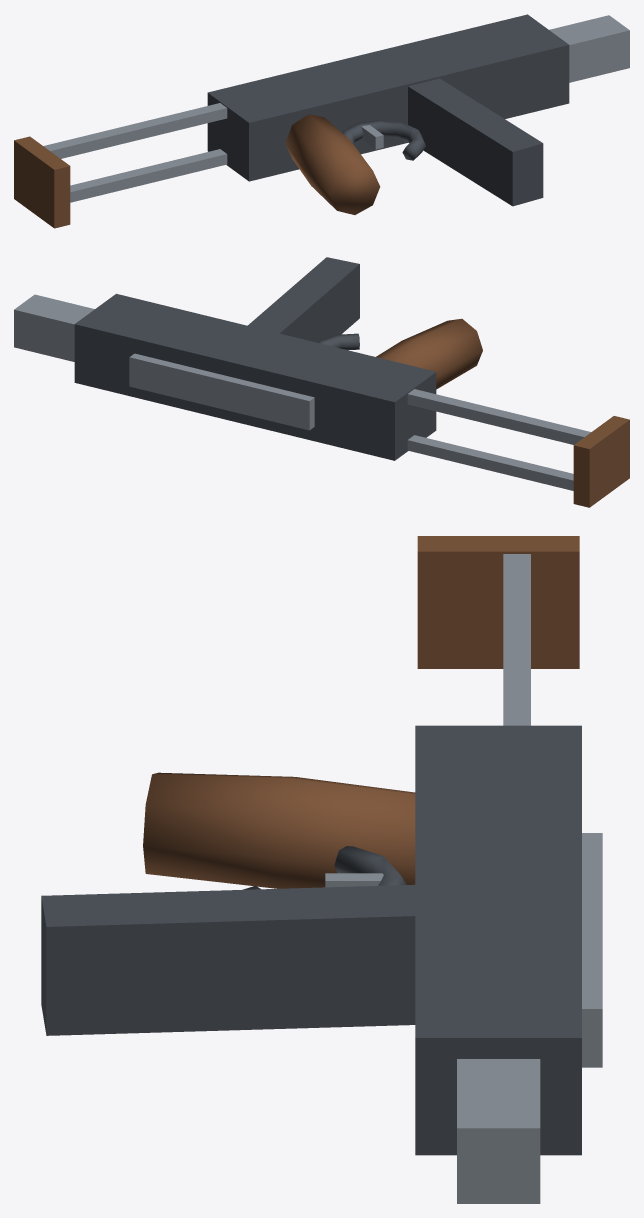
Rendered from weapon_smg.glb.
3 views of the same model, one above another, from view 1: azimuth 30°, elevation 25°; view 2: azimuth 150°, elevation 25°; view 3: azimuth 270°, elevation 25° (orthographic). The views are drawn at different scales.
Parts seen in each view (by area): view 1: receiver, mag, grip, pad, shroud, strut1, strut0, guard, trigger; view 2: receiver, rail, mag, pad, grip, shroud, strut1, strut0, guard; view 3: receiver, mag, grip, pad, shroud, rail, strut1, guard.
Part boxes in pixels (x1,y1,x2,y2): receiver: (207,14,569,181); mag: (408,78,543,206); grip: (285,114,380,214); pad: (14,136,70,228); shroud: (549,15,629,82); strut1: (43,103,227,158); strut0: (70,149,227,202); guard: (342,120,425,160); trigger: (361,125,383,149); receiver: (74,293,436,460); rail: (129,353,314,430); mag: (248,257,359,342); pad: (573,416,629,507); grip: (376,318,482,389); shroud: (14,294,94,361); strut1: (407,389,591,444); strut0: (407,435,573,490); guard: (317,333,359,350); receiver: (415,725,581,1155); mag: (41,884,415,1035); grip: (143,772,415,888); pad: (417,536,579,668); shroud: (457,1059,540,1203); rail: (582,833,602,1067); strut1: (503,554,530,725); guard: (242,846,406,889).
Bounding box in the file's own units: 0.585 × 0.056 × 0.2429.
